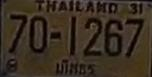0: (28, 15, 46, 52)
1: (69, 16, 75, 54)
2: (83, 17, 101, 55)
6: (104, 18, 122, 56)
7: (8, 13, 26, 52), (125, 18, 143, 56)
YST: (53, 58, 97, 77)
